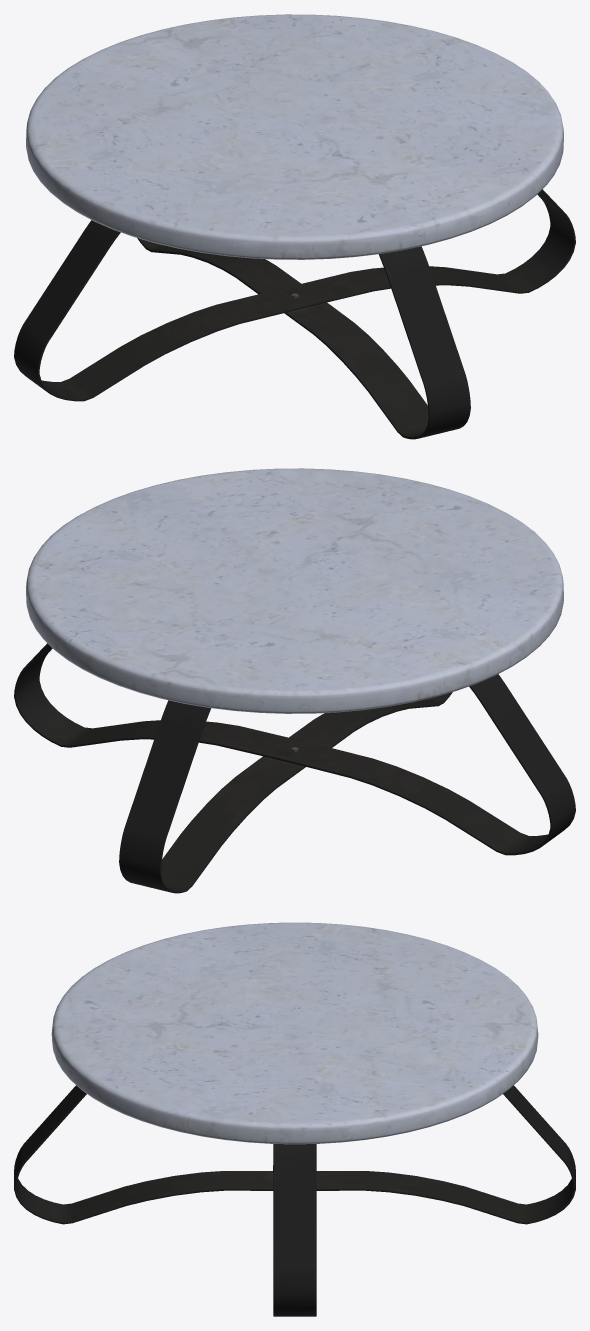
Rendered from coffee_table_round_01.glb.
3 renders of one model, top to bottom at view 1: azimuth 30°, elevation 25°; view 2: azimuth 150°, elevation 25°; view 3: azimuth 270°, elevation 25°, orthographic. The views are drawn at different scales.
Parts seen in each view (by area): view 1: coffee_table_round_01; view 2: coffee_table_round_01; view 3: coffee_table_round_01.
Part boxes in pixels (x1,y1,x2,y2): coffee_table_round_01: (14, 14, 575, 439); coffee_table_round_01: (14, 468, 575, 893); coffee_table_round_01: (14, 922, 575, 1316).
Size of the model in its own units: 1.3 by 0.4911 by 1.3.
Materials: 1 (1 with a texture image).
